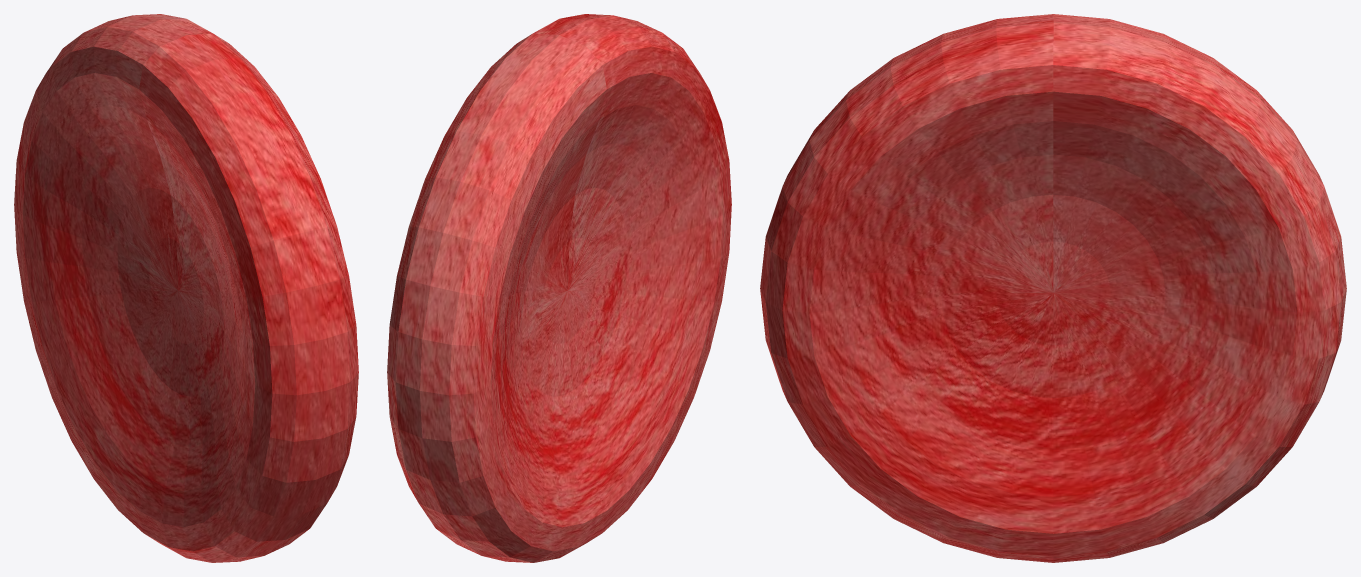
The model's file is Blood.fbx.
3 views of the same model, side by side, from view 1: azimuth 30°, elevation 25°; view 2: azimuth 150°, elevation 25°; view 3: azimuth 270°, elevation 25° (orthographic). The views are drawn at different scales.
Visible parts, largest first — view 1: Blood; view 2: Blood; view 3: Blood.
Part boxes in pixels (<box>): Blood: <box>14,14,358,562</box>; Blood: <box>387,14,731,562</box>; Blood: <box>760,14,1346,562</box>.
Size of the model in its own units: 78.33 by 400 by 400.
Materials: 1 (1 with a texture image).
